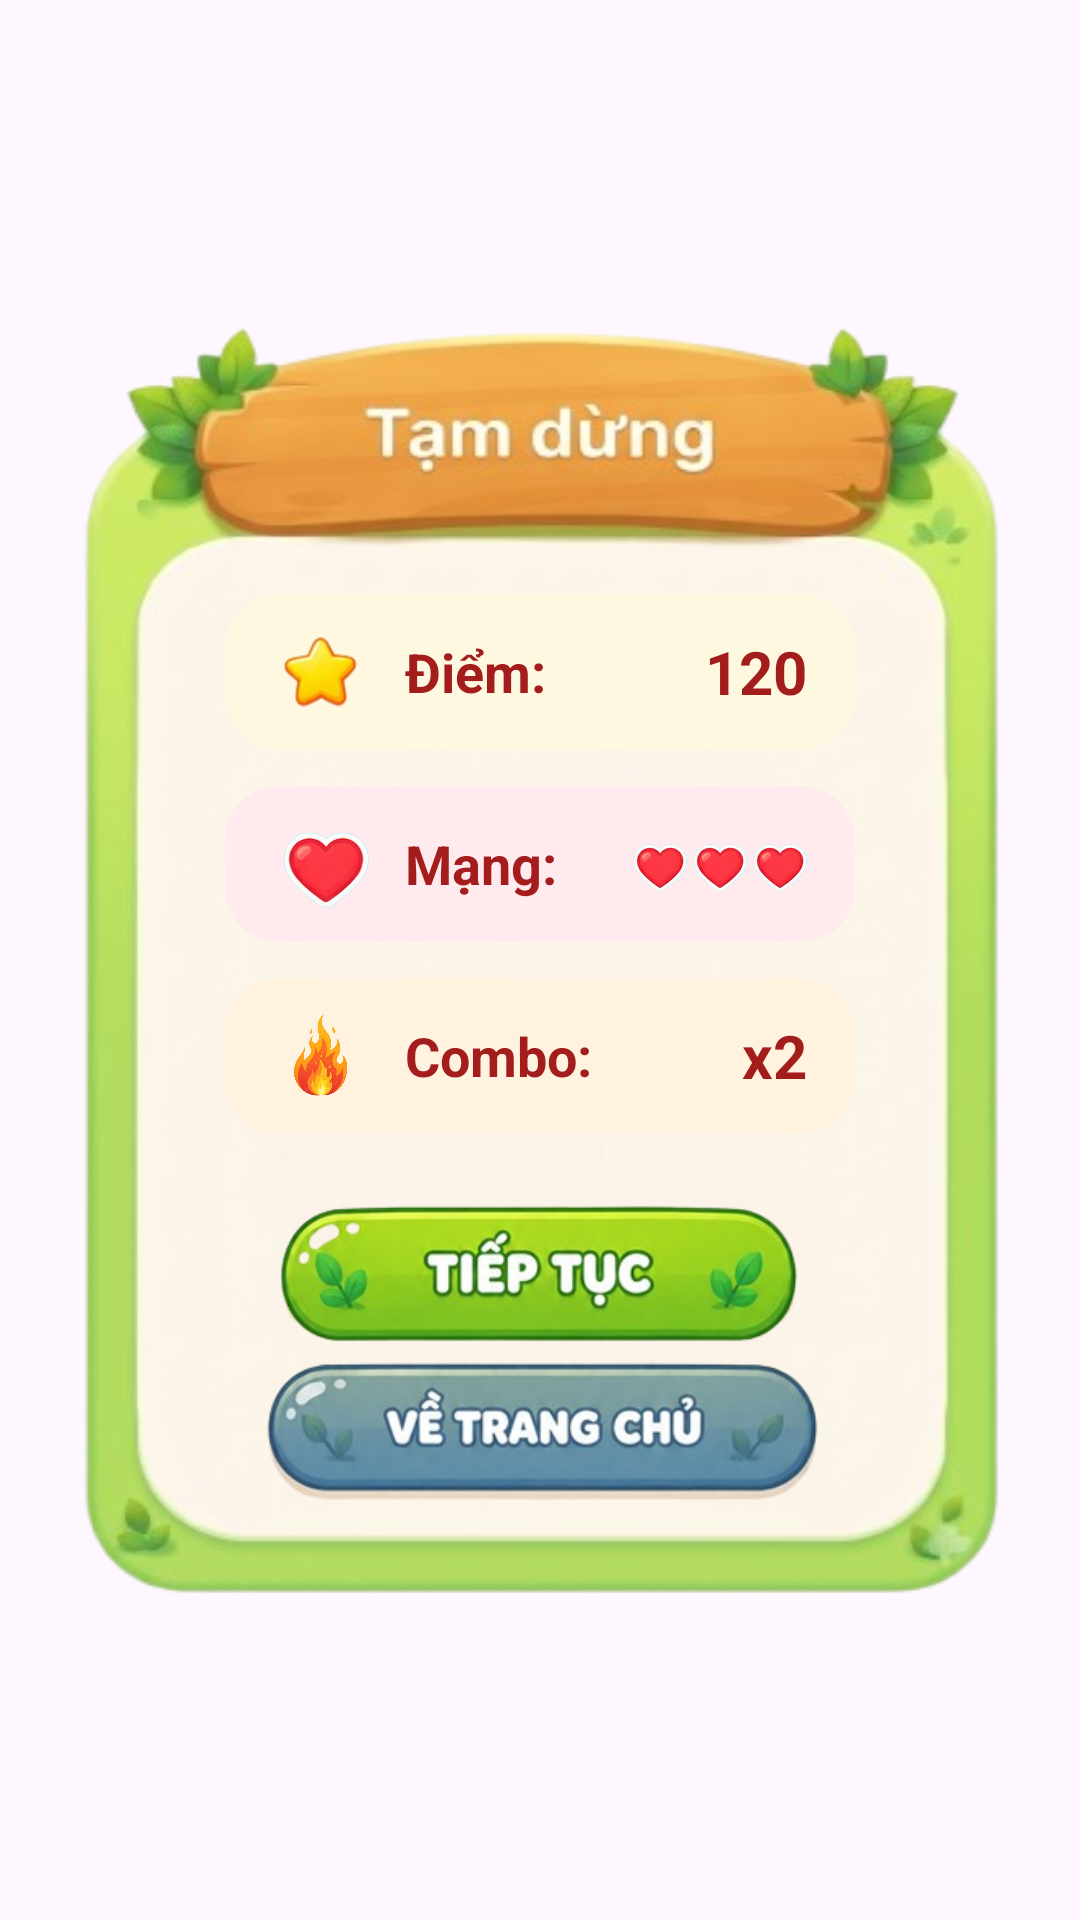

Where icons sit on this 1080 x 1920 app screen, as {"x1": x1, "y1": y1, "x2": x2, "y2": y2}:
lua: {"x1": 294, "y1": 1015, "x2": 347, "y2": 1096}
sao: {"x1": 284, "y1": 637, "x2": 357, "y2": 707}
tim: {"x1": 284, "y1": 833, "x2": 369, "y2": 908}, {"x1": 634, "y1": 844, "x2": 687, "y2": 891}, {"x1": 694, "y1": 844, "x2": 747, "y2": 891}, {"x1": 754, "y1": 844, "x2": 807, "y2": 891}
